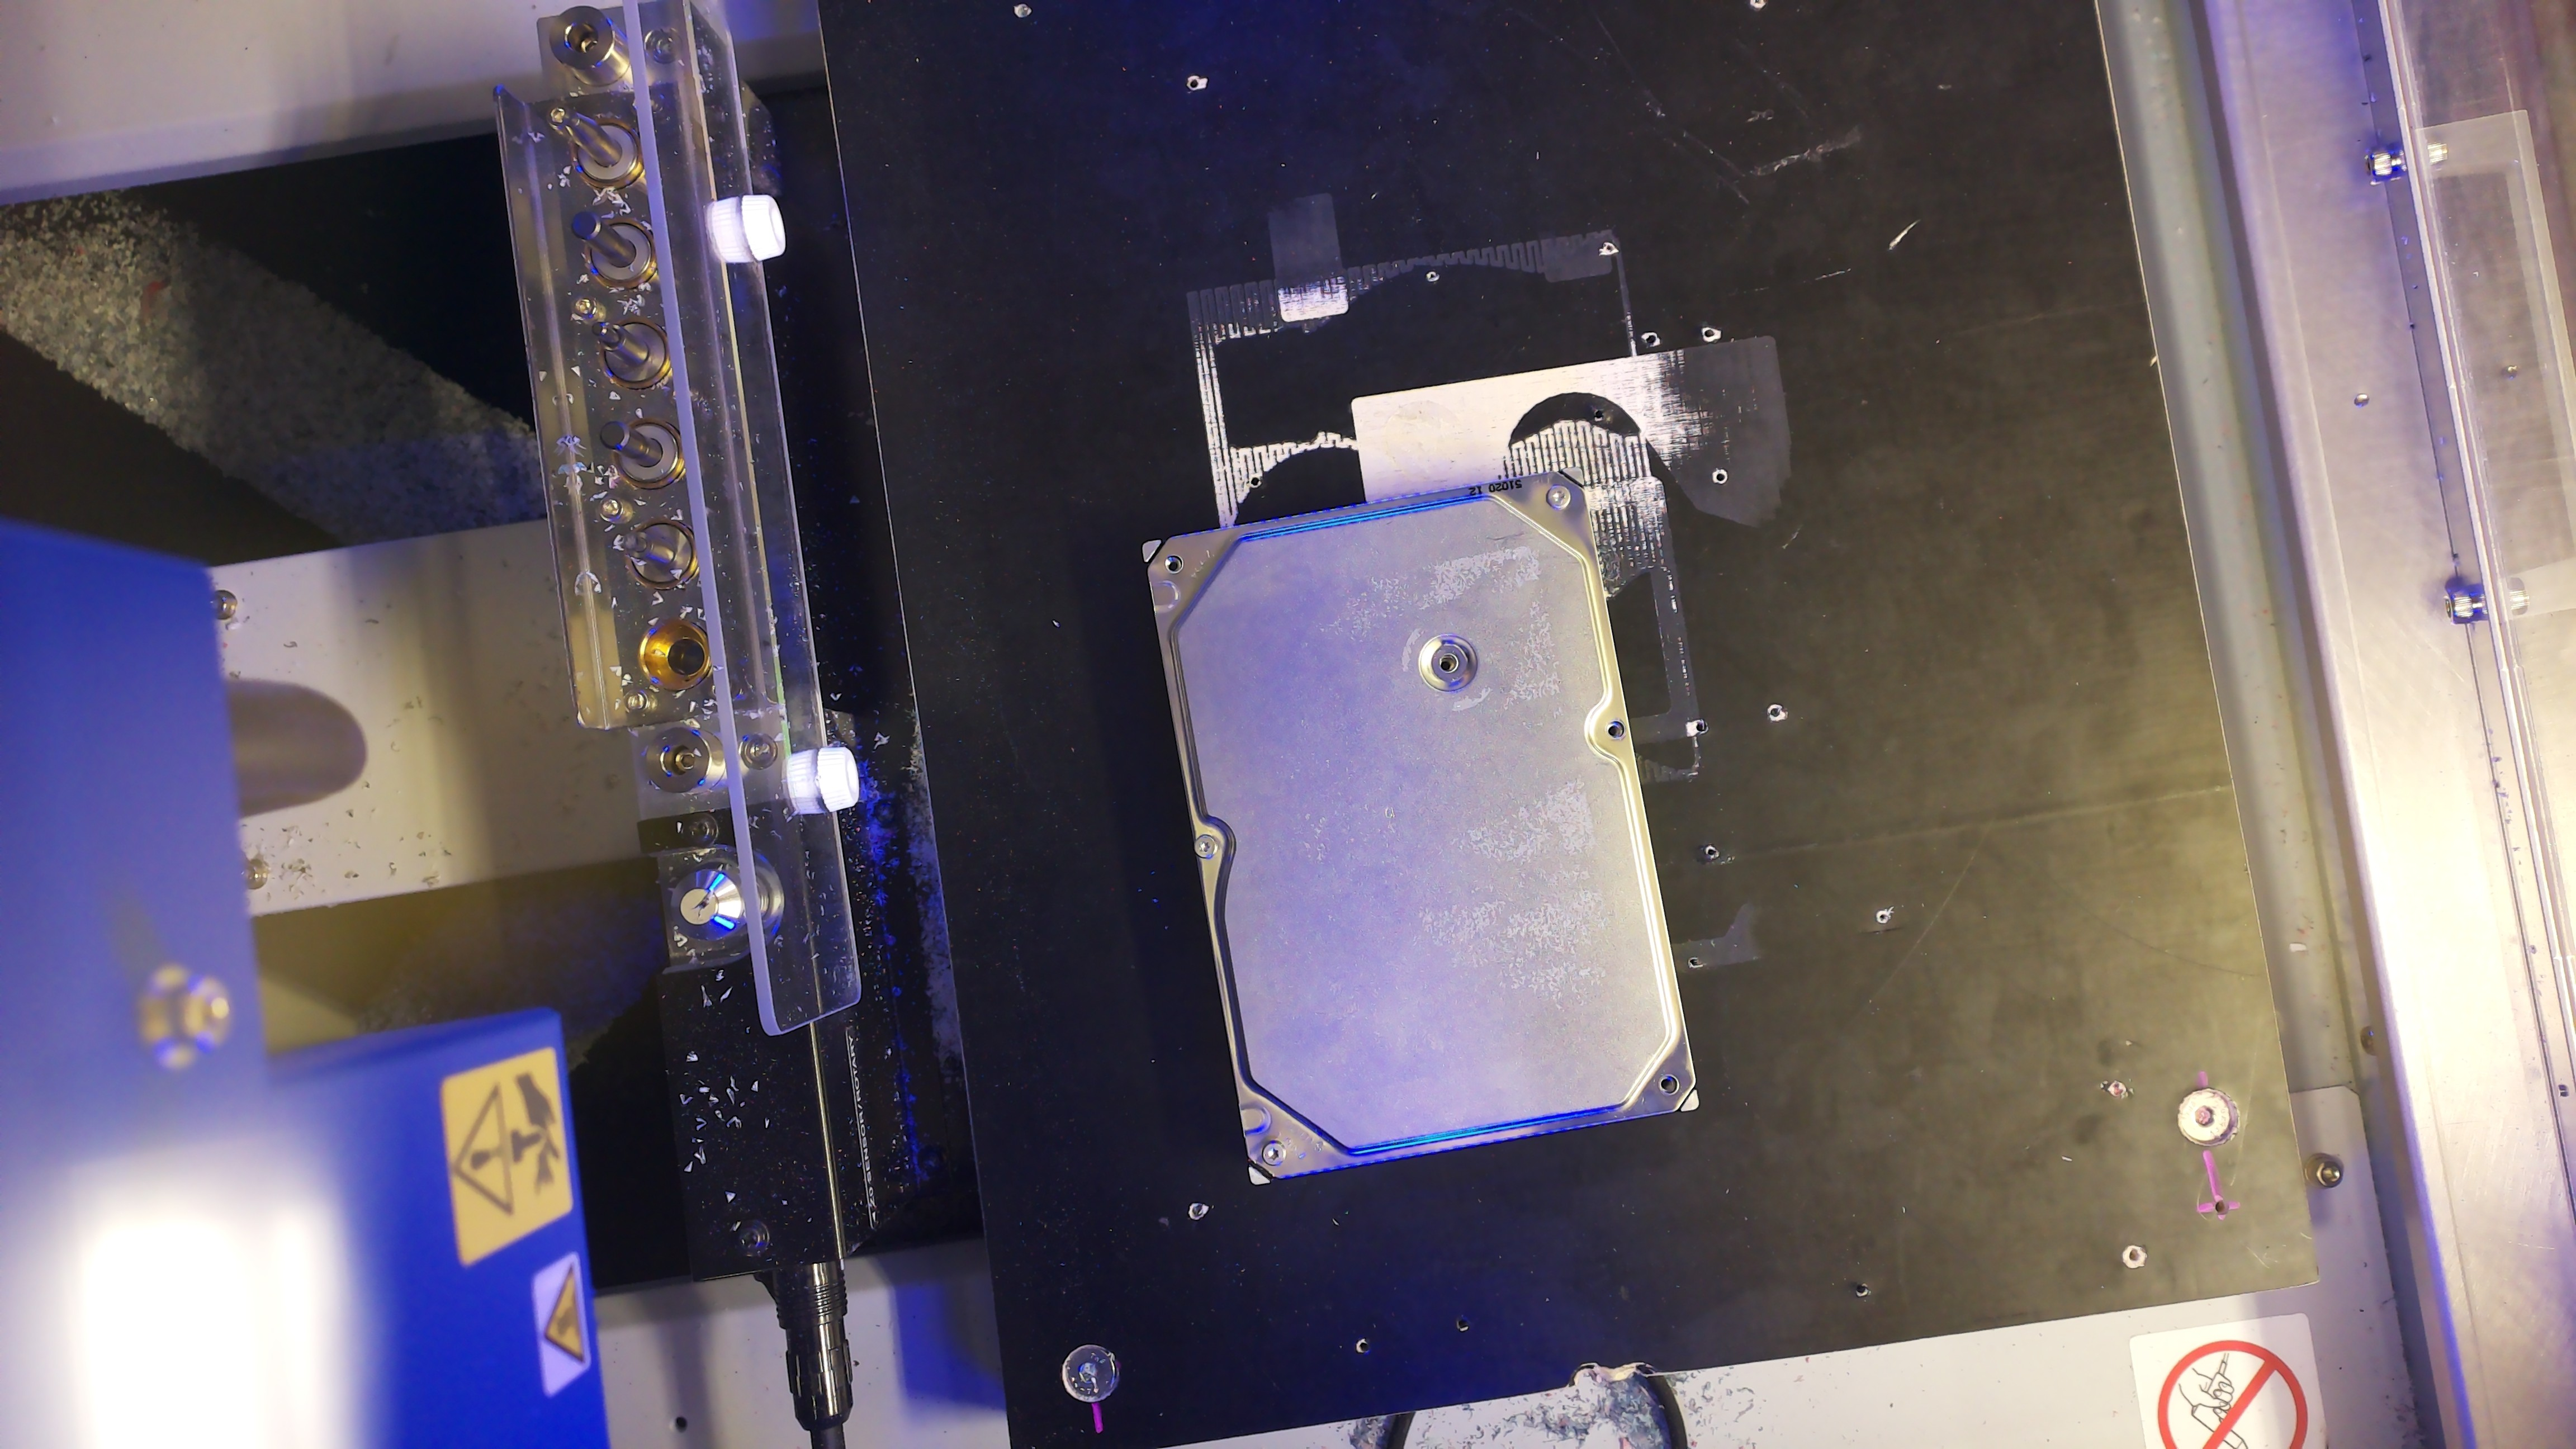Hole: (1658, 1074, 1679, 1095), (1438, 653, 1458, 672), (1606, 720, 1626, 740), (1164, 556, 1184, 573)
Screw: (1546, 483, 1571, 510), (1192, 835, 1217, 858), (1261, 1141, 1286, 1164)
